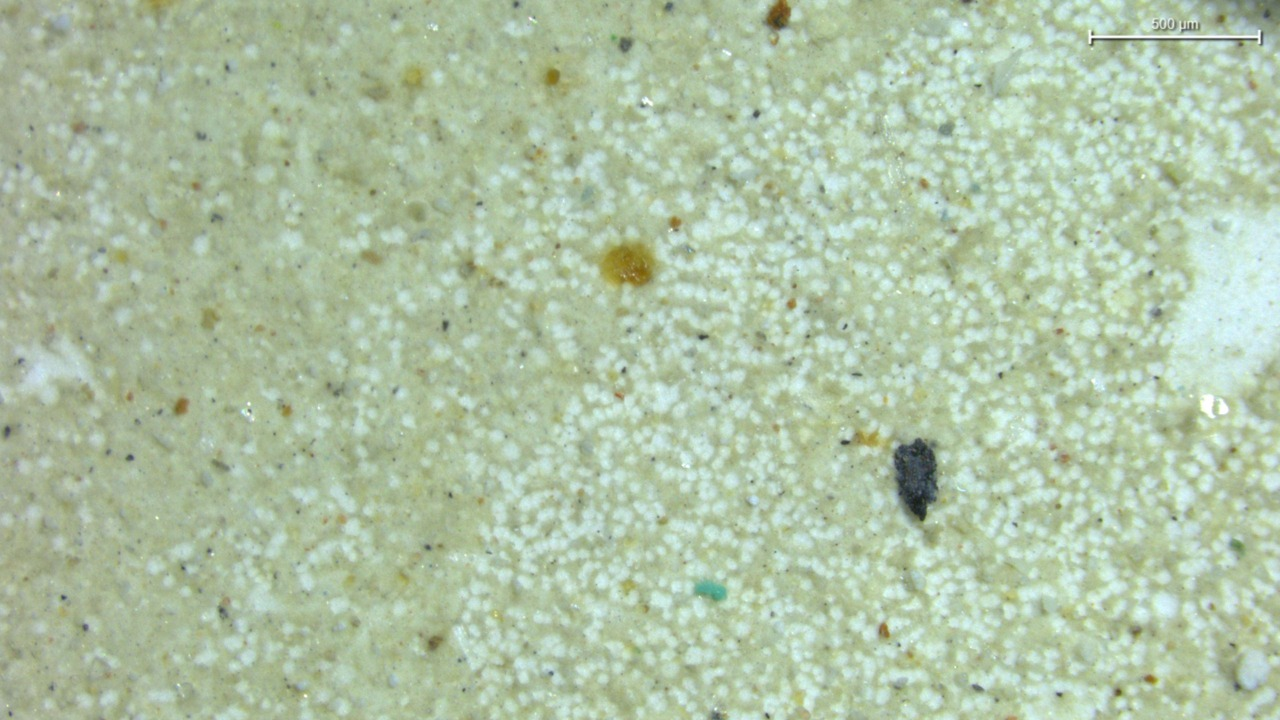microplastic_fragment: (893, 438, 938, 521)
